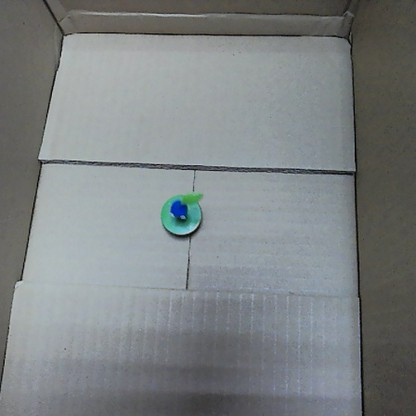leafairy: (156, 187, 206, 238)
